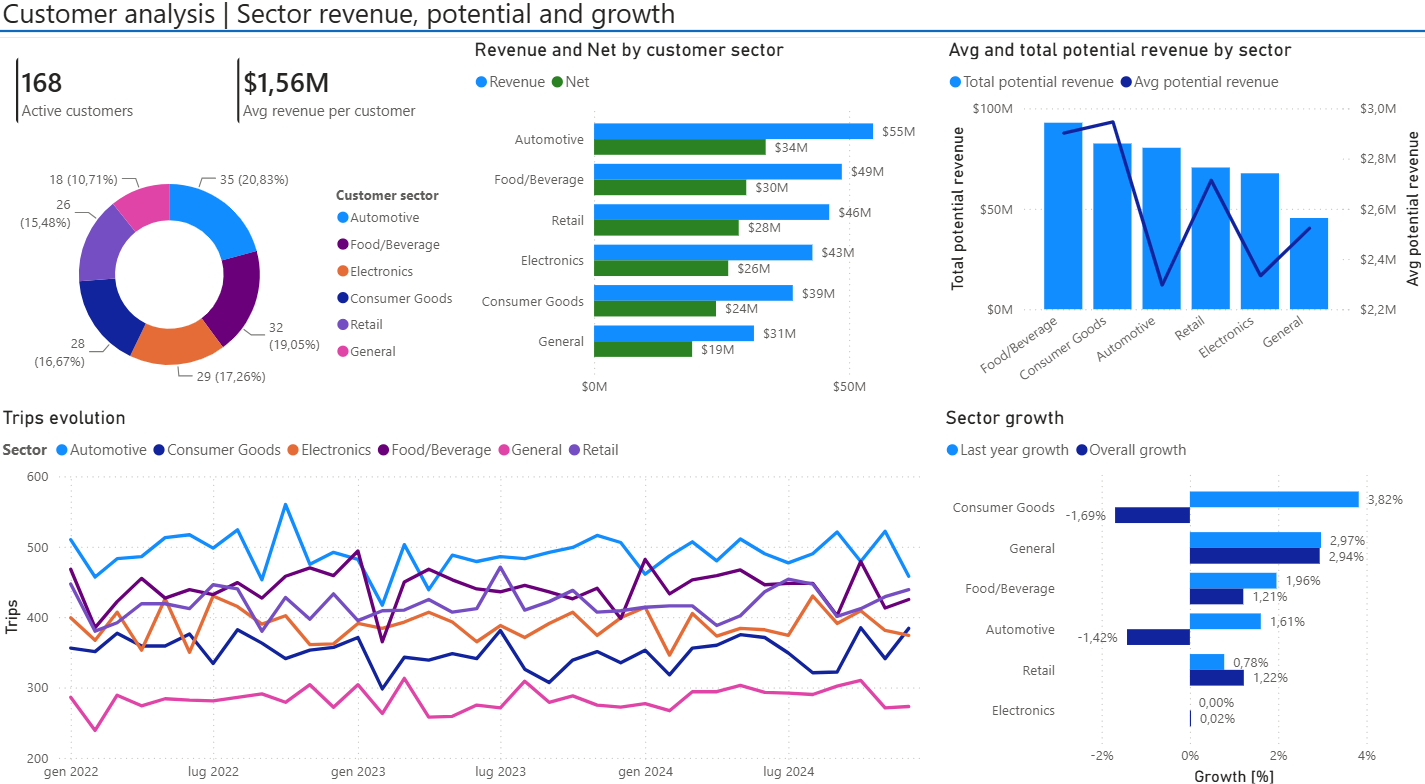

This screenshot's page, from the dashboard's own definition file:
{"tool":"powerbi","page":{"name":"CA","canvas":[1280,720],"ordinal":1},"visuals":[{"type":"textbox","box":[0,0,1279.7,44.8],"z":0},{"type":"shape","box":[0,32.2,1279.7,12.5],"z":1000},{"type":"cardVisual","fields":{"Data":["Sum(customer_aggregation.counter)","customer_aggregation.Customer_avg_revenue"]},"box":[0,44.8,422.7,94],"z":2000},{"type":"donutChart","title":"Customer distribution","fields":{"Category":["customer_aggregation.primary_freight_type"],"Y":["Sum(customer_aggregation.counter)"]},"box":[0,138.8,422.7,235.5],"z":3000},{"type":"lineStackedColumnComboChart","title":"Avg and total potential revenue by sector","fields":{"Category":["customer_aggregation.primary_freight_type"],"Y":["Sum(customer_aggregation.Total_potential_revenue)"],"Y2":["Sum(customer_aggregation.avg_potential_revenue)"]},"box":[847.2,44.8,432.5,329.6],"z":4000},{"type":"lineChart","title":"Trips evolution","fields":{"Category":["Date.Date.Variation.Date Hierarchy.Year","Date.Date.Variation.Date Hierarchy.Quarter","Date.Date.Variation.Date Hierarchy.Month","Date.Date.Variation.Date Hierarchy.Day"],"Y":["CountNonNull(trip-loads-full-join.trip_id)"],"Series":["trip-loads-full-join.customer_sector"]},"box":[0,374.3,844.5,344.8],"z":5000},{"type":"clusteredBarChart","title":"Sector growth","fields":{"Category":["Customer_growth.sector"],"Y":["Sum(Customer_growth.%_last_year)","Sum(Customer_growth.%_overall)"]},"box":[844.5,374.3,429,343.9],"z":6000},{"type":"clusteredBarChart","fields":{"Category":["trip-loads-full-join.customer_sector"],"Y":["Sum(trip-loads-full-join.revenue)","trip-loads-full-join.Revenue_net"]},"box":[422.7,44.8,421.8,329.6],"z":7000}]}

Visuals, with their boxes in screenshot pixels (x1, y1, x2, y2), scaled from the page's 1280x720 canvas onto the 1425x784 screenshot:
textbox: bbox=[0, 0, 1424, 49]
shape: bbox=[0, 35, 1424, 49]
cardVisual - Sum(customer_aggregation.counter) x customer_aggregation.Customer_avg_revenue: bbox=[0, 49, 471, 151]
"Customer distribution" donutChart: bbox=[0, 151, 471, 408]
"Avg and total potential revenue by sector" lineStackedColumnComboChart: bbox=[943, 49, 1424, 408]
"Trips evolution" lineChart: bbox=[0, 408, 940, 783]
"Sector growth" clusteredBarChart: bbox=[940, 408, 1418, 782]
clusteredBarChart - trip-loads-full-join.customer_sector x Sum(trip-loads-full-join.revenue): bbox=[471, 49, 940, 408]
